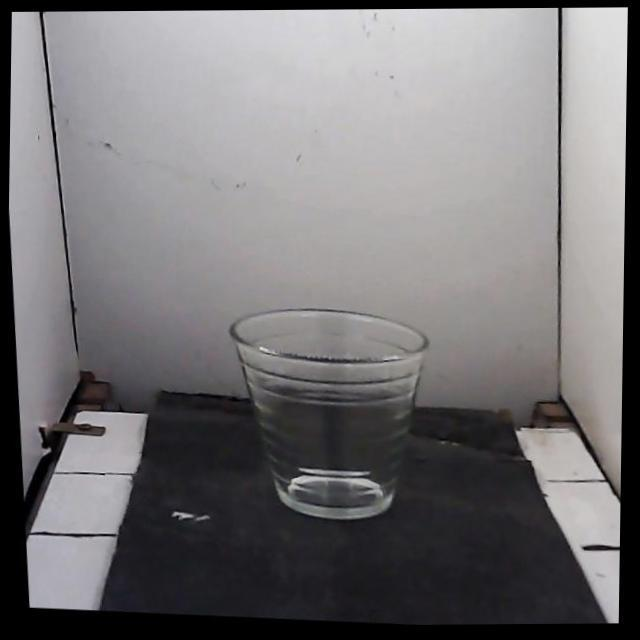vidro: (230, 309, 427, 519)
